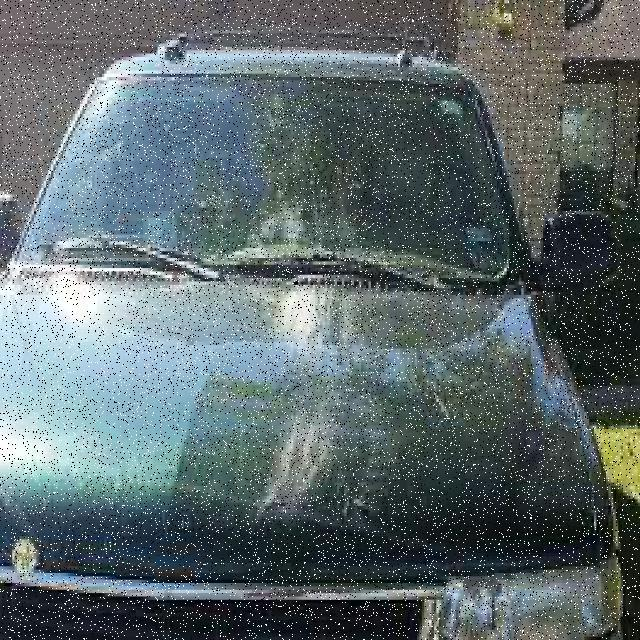bonnet-dent: (0, 275, 601, 610)
